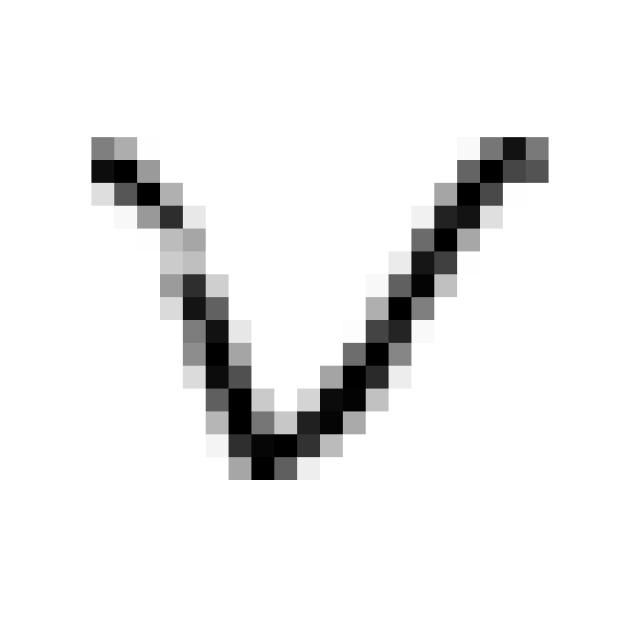7 -seven-: (71, 112, 572, 497)
